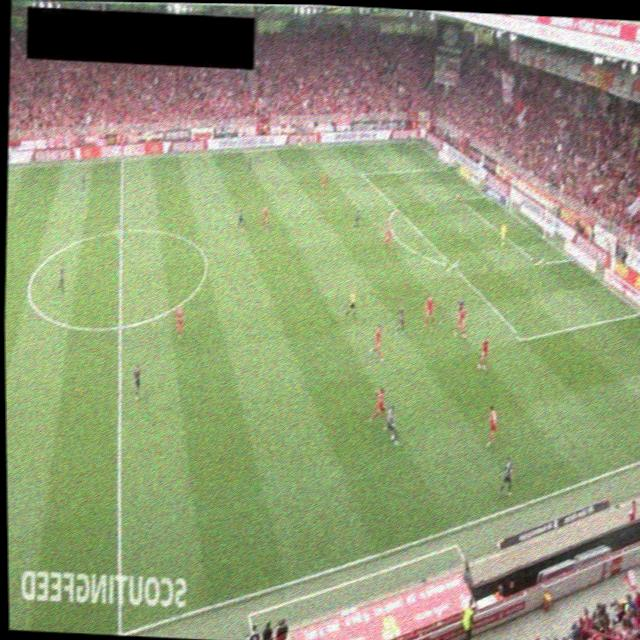bigarea_bottom_inner: (516, 333, 528, 345)
bigarea_bottom_outter: (636, 307, 640, 319)
bigarea_top_inner: (355, 167, 367, 179)
bigarea_top_outter: (444, 163, 456, 175)
bottom_arc_area_intersection: (446, 260, 458, 272)
corner: (407, 136, 419, 148)
halfcircle_bottom: (113, 319, 127, 333)
halfcircle_top: (114, 225, 127, 238)
midline_bottom_intersection: (110, 625, 128, 635)
midline_top_intersection: (116, 153, 128, 165)
smallarea_bottom_inner: (531, 257, 543, 269)
smallarea_bottom_outter: (565, 253, 577, 265)
smallarea_top_inner: (452, 193, 464, 205)
smallarea_top_outter: (481, 189, 493, 201)
top_arc_area_intersection: (389, 201, 402, 213)
